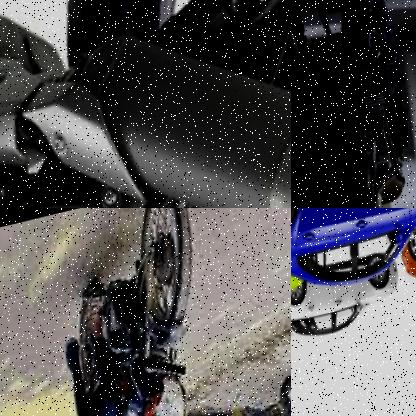bike: (43, 208, 245, 416), (291, 0, 416, 208)
car: (291, 208, 416, 307), (291, 262, 416, 349)
